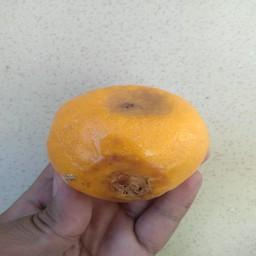Bad_orange: (43, 79, 209, 205)
